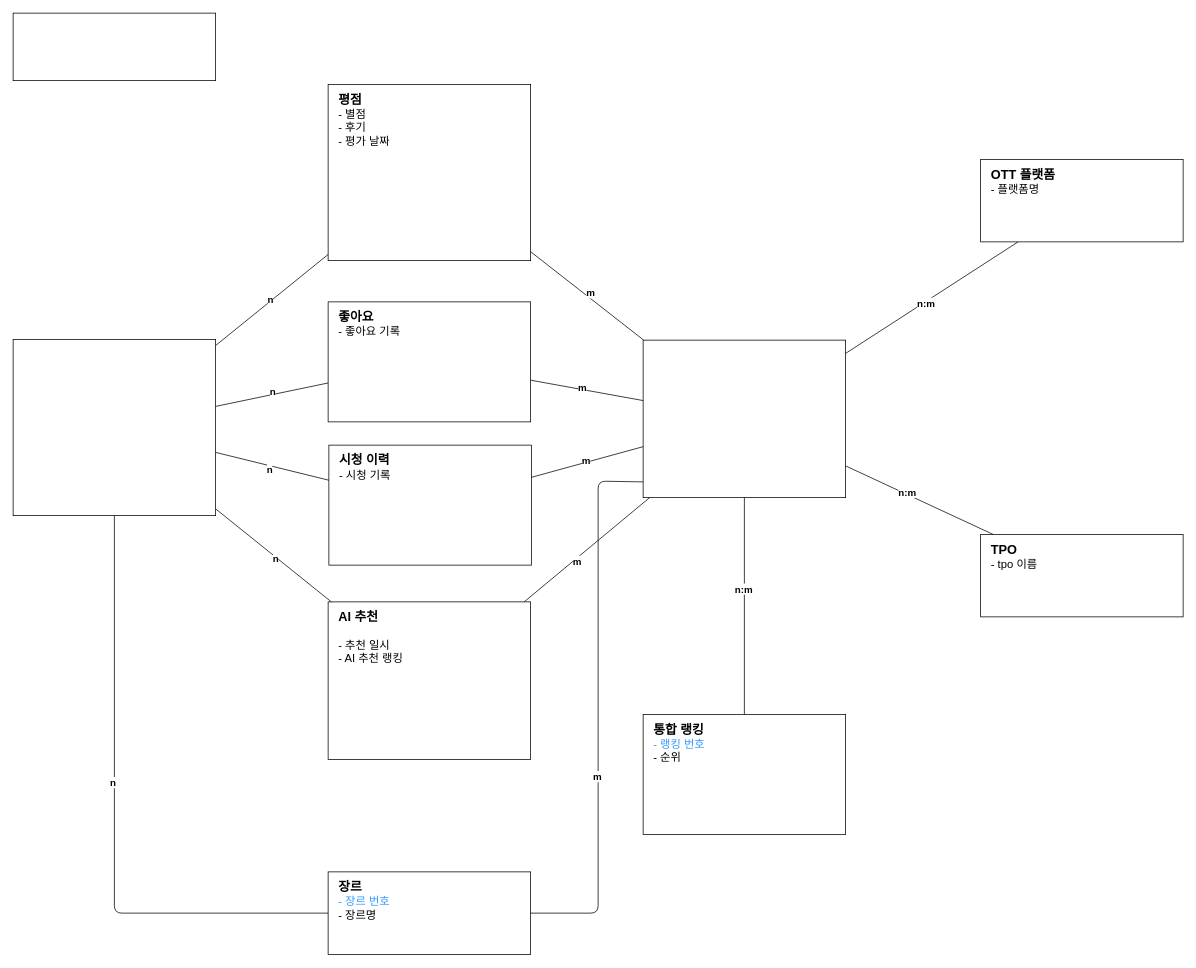
The diagram is 1196 pixels wide and 968 high, and some of its shapes have lost their labels. The shapes that lost their labels are listed below. From the top down, each one's centre as x and y in pixels, then its label:
At [114,46]: "기본키".
At [114,427]: "사용자 - 아이디 - 비밀번호 - 이메일 - 연령대 - 직업".
At [744,418]: "작품 - 작품 번호 - 제목 - 작품 유형 - 줄거리 - 포스터".
